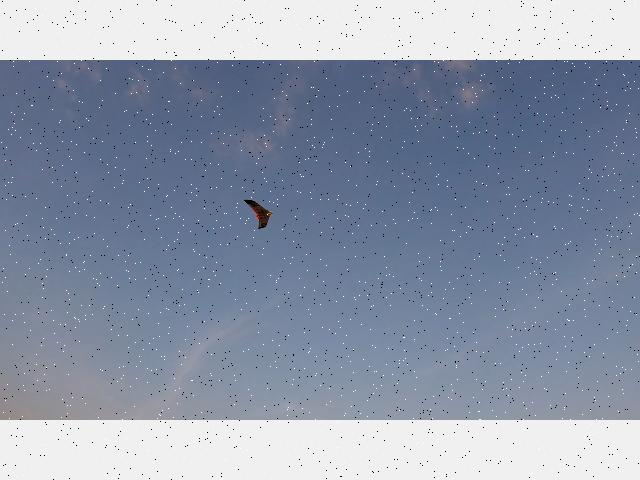Anti-Drone: (244, 200, 274, 230)
